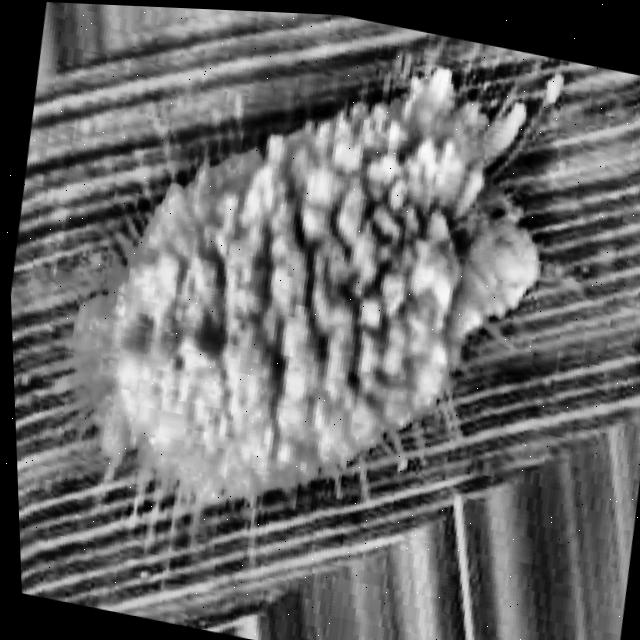Mealy-bug: (0, 0, 640, 624)
